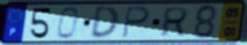0: (55, 5, 83, 41)
5: (29, 7, 52, 40)
8: (192, 3, 219, 41)
D: (89, 5, 121, 40)
P: (121, 6, 152, 40)
R: (158, 6, 191, 38)
